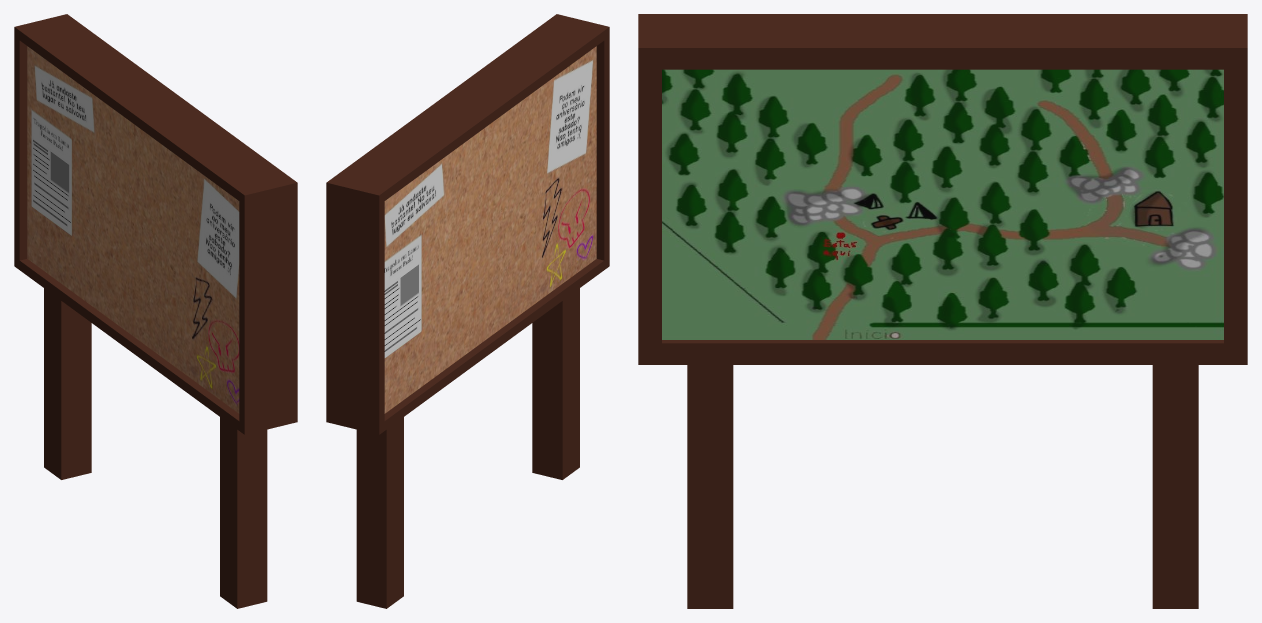
The model's file is buildboard2D.fbx.
3 views of the same model, side by side, from view 1: azimuth 30°, elevation 25°; view 2: azimuth 150°, elevation 25°; view 3: azimuth 270°, elevation 25° (orthographic). The views are drawn at different scales.
Parts seen in each view (by area): view 1: Cube, Cube.001; view 2: Cube, Cube.001; view 3: Cube, Cube.001.
Boxes of the visible parts, bbox=[...] form: Cube: bbox=[14, 14, 297, 434]; Cube.001: bbox=[44, 288, 267, 608]; Cube: bbox=[326, 14, 609, 434]; Cube.001: bbox=[356, 288, 579, 608]; Cube: bbox=[638, 14, 1247, 364]; Cube.001: bbox=[687, 365, 1198, 608].
Size of the model in its own units: 88.31 by 687 by 668.
